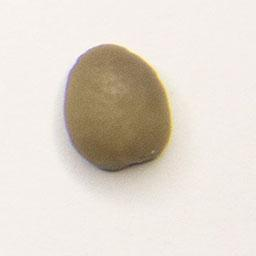premium: (61, 41, 175, 175)
